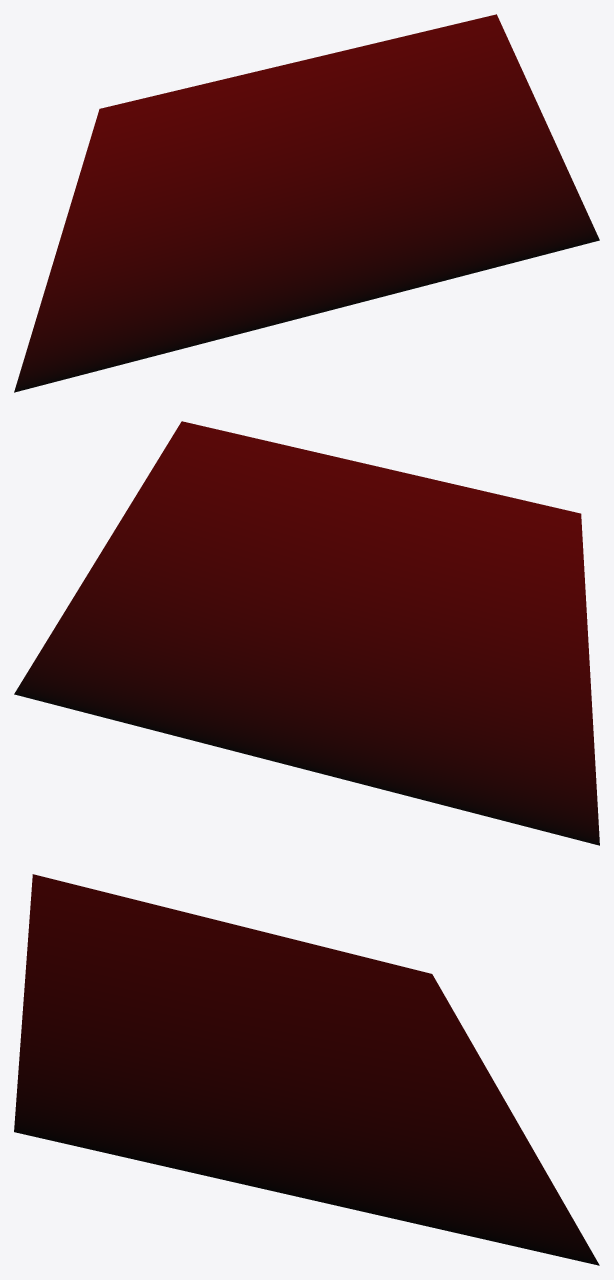
The model's file is Grass3.glb.
3 renders of one model, top to bottom at view 1: azimuth 30°, elevation 25°; view 2: azimuth 150°, elevation 25°; view 3: azimuth 330°, elevation 25°, orthographic.
Visible parts, largest first — view 1: Grass.002; view 2: Grass.002; view 3: Grass.002.
Part boxes in pixels (box(x1,y1,x2,y2)): Grass.002: box(14, 14, 599, 392); Grass.002: box(14, 421, 599, 845); Grass.002: box(14, 874, 599, 1265).
Bounding box in the file's own units: 0.3229 × 0.1555 × 0.0322.
